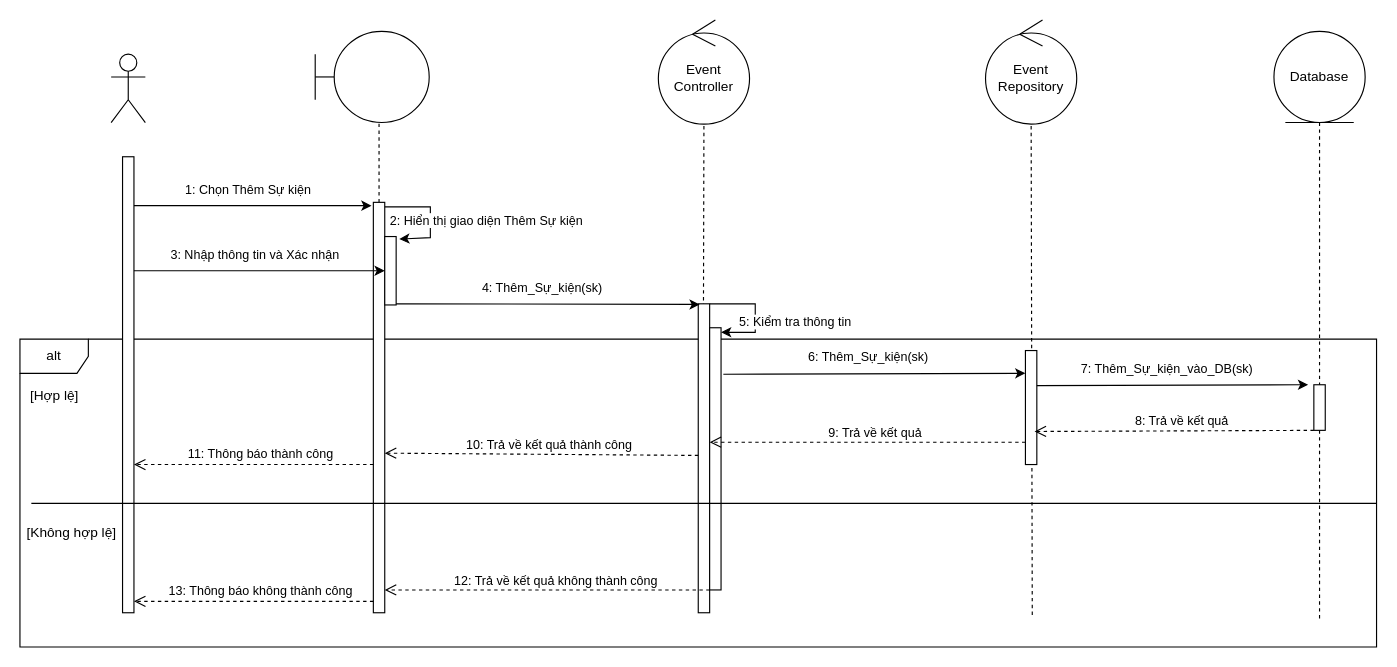
The diagram is 1397 pixels wide and 667 high, and some of its shapes have lost their labels. The shapes that lost their labels are listed below. From the top down, each one's centre as x and y in pixels, then its label:
At (x=127, y=88): "Nhân viên".
At (x=371, y=76): "Event Interface".
